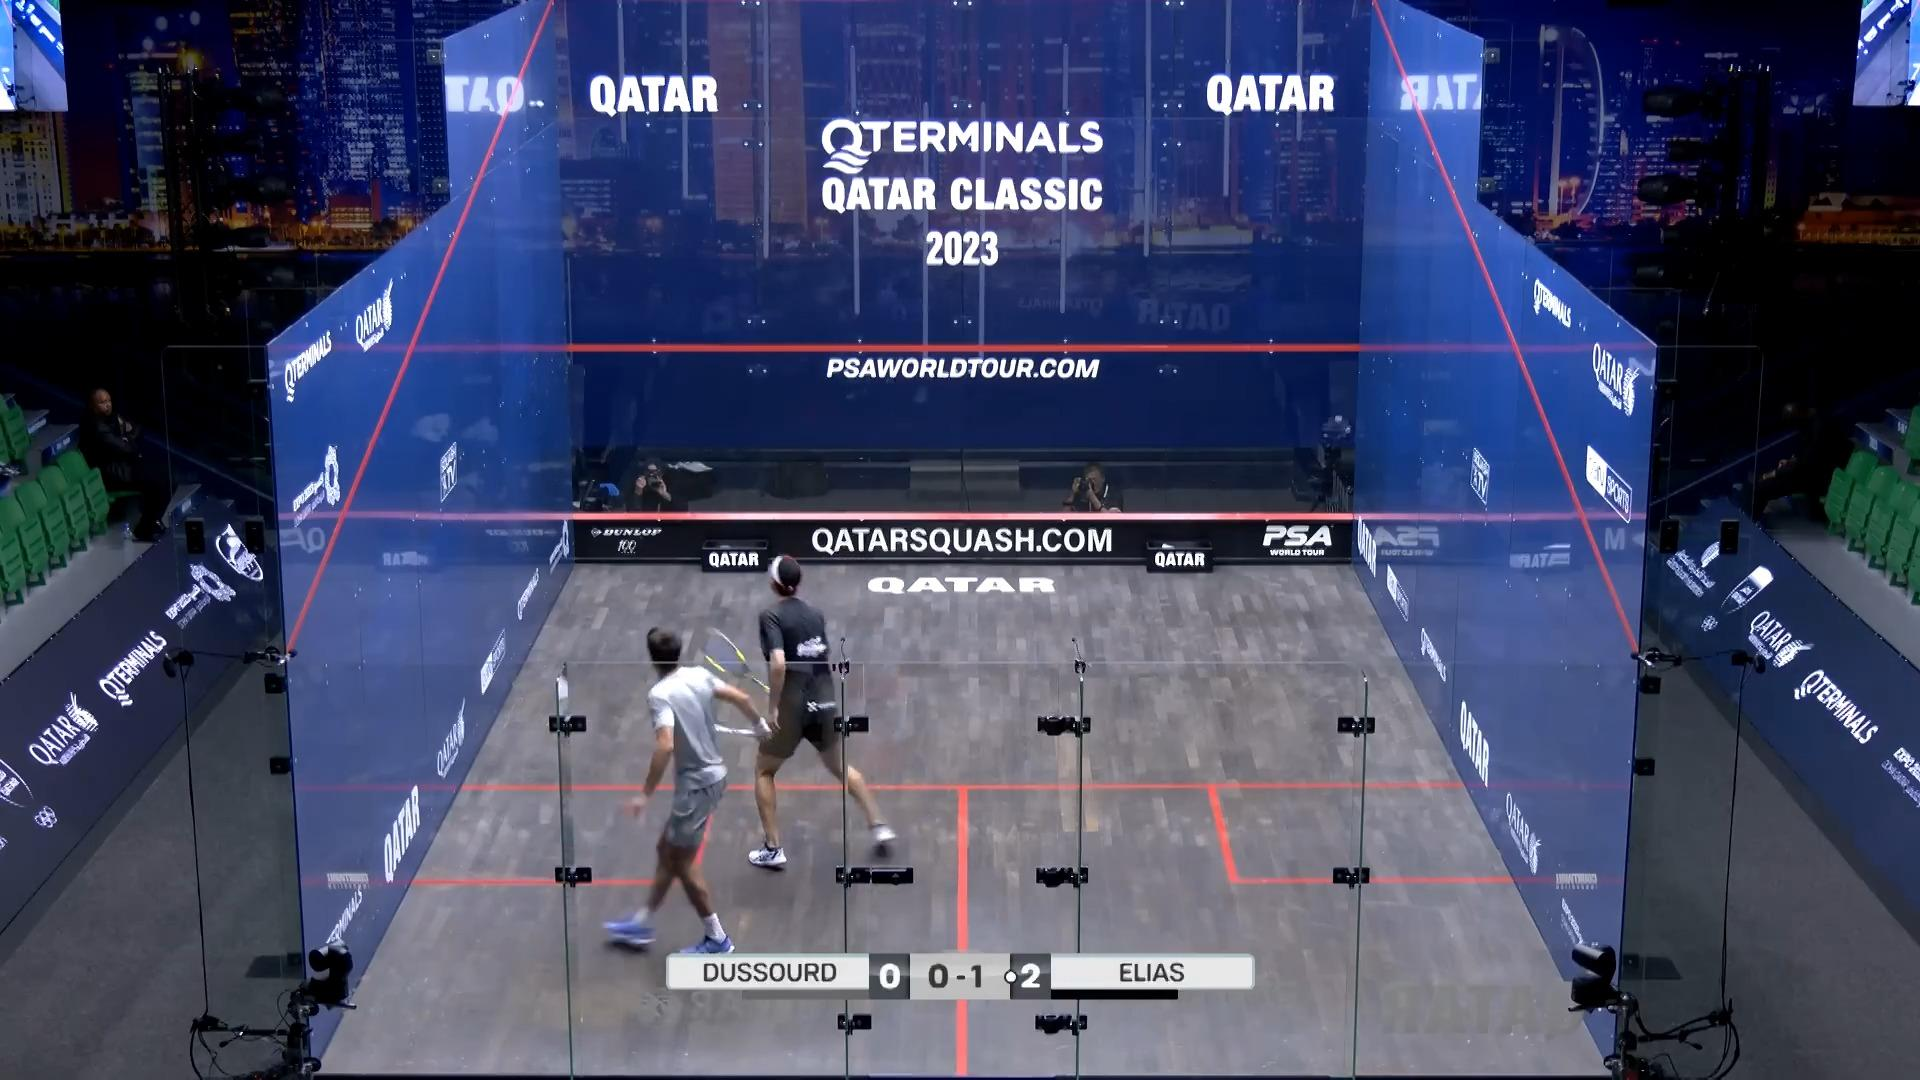Racket: (687, 616, 775, 683)
